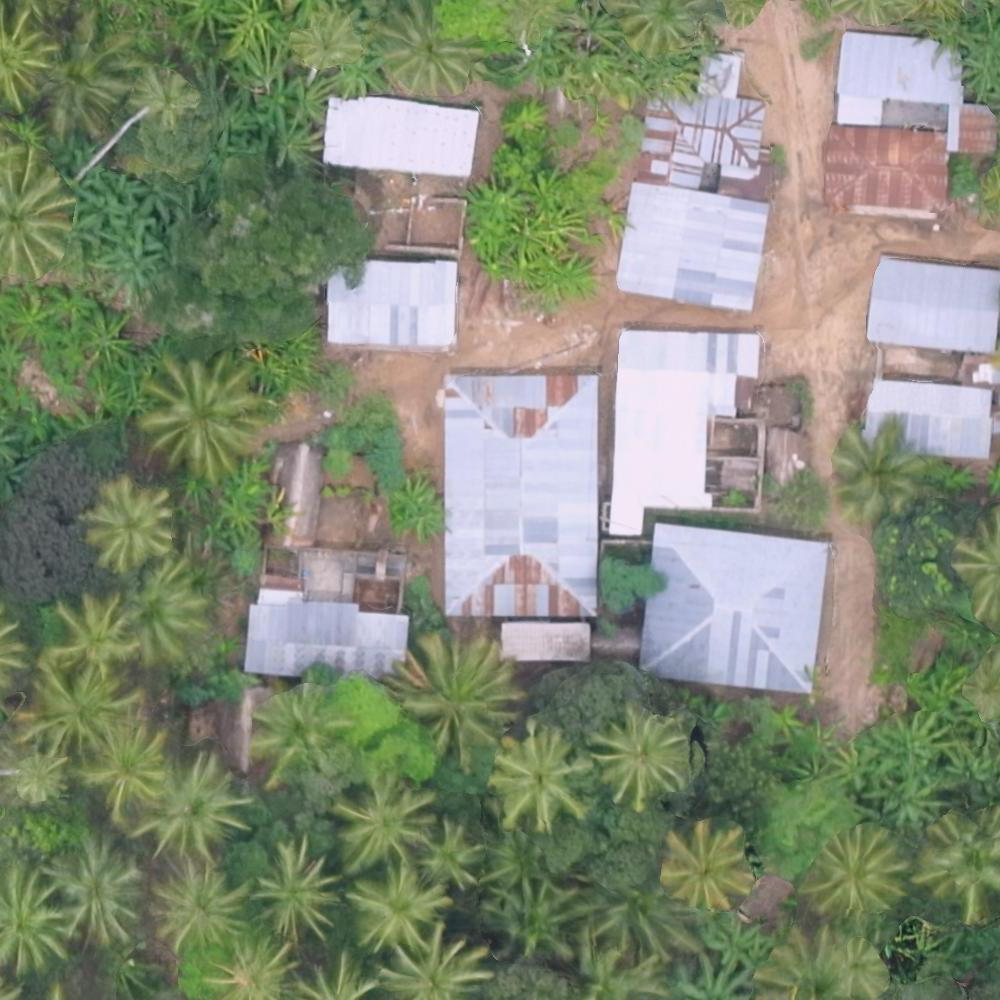Palm: (139, 356, 263, 477), (412, 639, 522, 747), (18, 667, 129, 762), (50, 835, 144, 944), (144, 751, 246, 851), (244, 683, 348, 777), (1, 161, 77, 284), (589, 710, 690, 802), (801, 826, 905, 915), (917, 815, 999, 924), (333, 773, 433, 861), (1, 860, 79, 971), (830, 426, 924, 518), (495, 730, 587, 823), (123, 565, 206, 667), (82, 722, 173, 814), (47, 589, 138, 680), (352, 863, 449, 948), (148, 861, 243, 947), (255, 842, 339, 936), (663, 817, 747, 905), (389, 928, 488, 1000), (87, 478, 168, 563)
